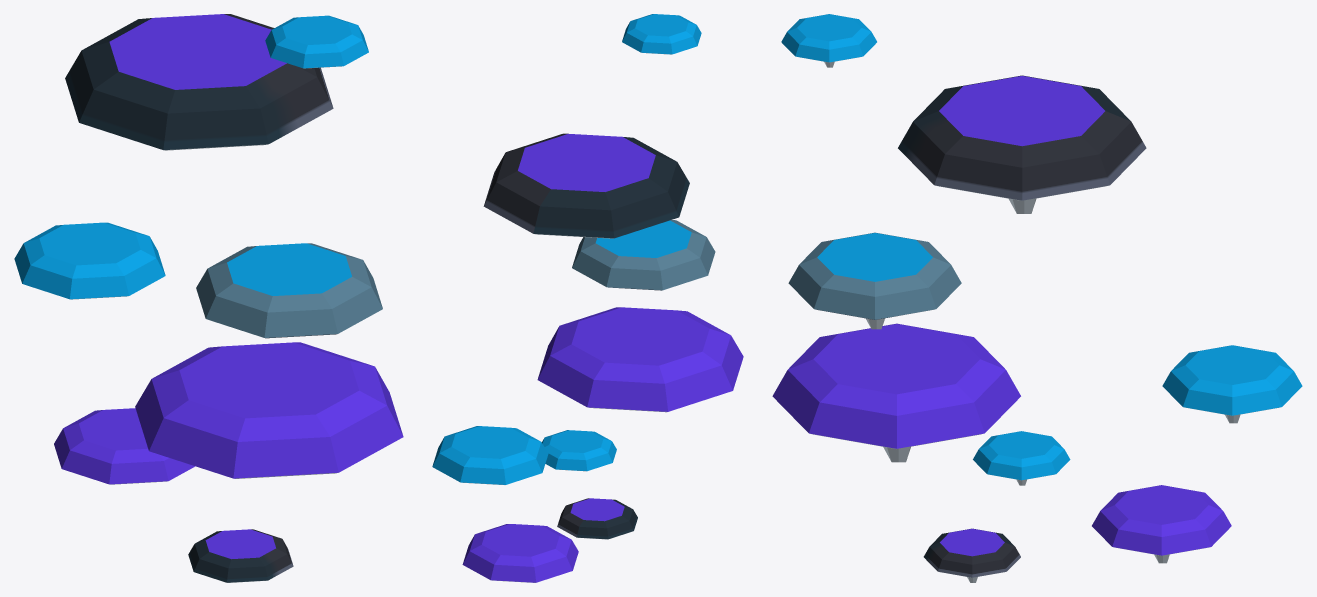
The model's file is Garden_WallShroom04.fbx.
The picture shows the model from 3 angles, left to right: view 1: azimuth 30°, elevation 25°; view 2: azimuth 150°, elevation 25°; view 3: azimuth 270°, elevation 25°; orthographic projection. The views are drawn at different scales.
Visible parts, largest first — view 1: Cylinder.060; view 2: Cylinder.060; view 3: Cylinder.060.
Part boxes in pixels (left/top/right/bottom): Cylinder.060: left=14, top=14, right=403, bottom=582; Cylinder.060: left=432, top=14, right=743, bottom=582; Cylinder.060: left=772, top=14, right=1302, bottom=582.
Bounding box in the file's own units: 42.11 × 102 × 89.7.
